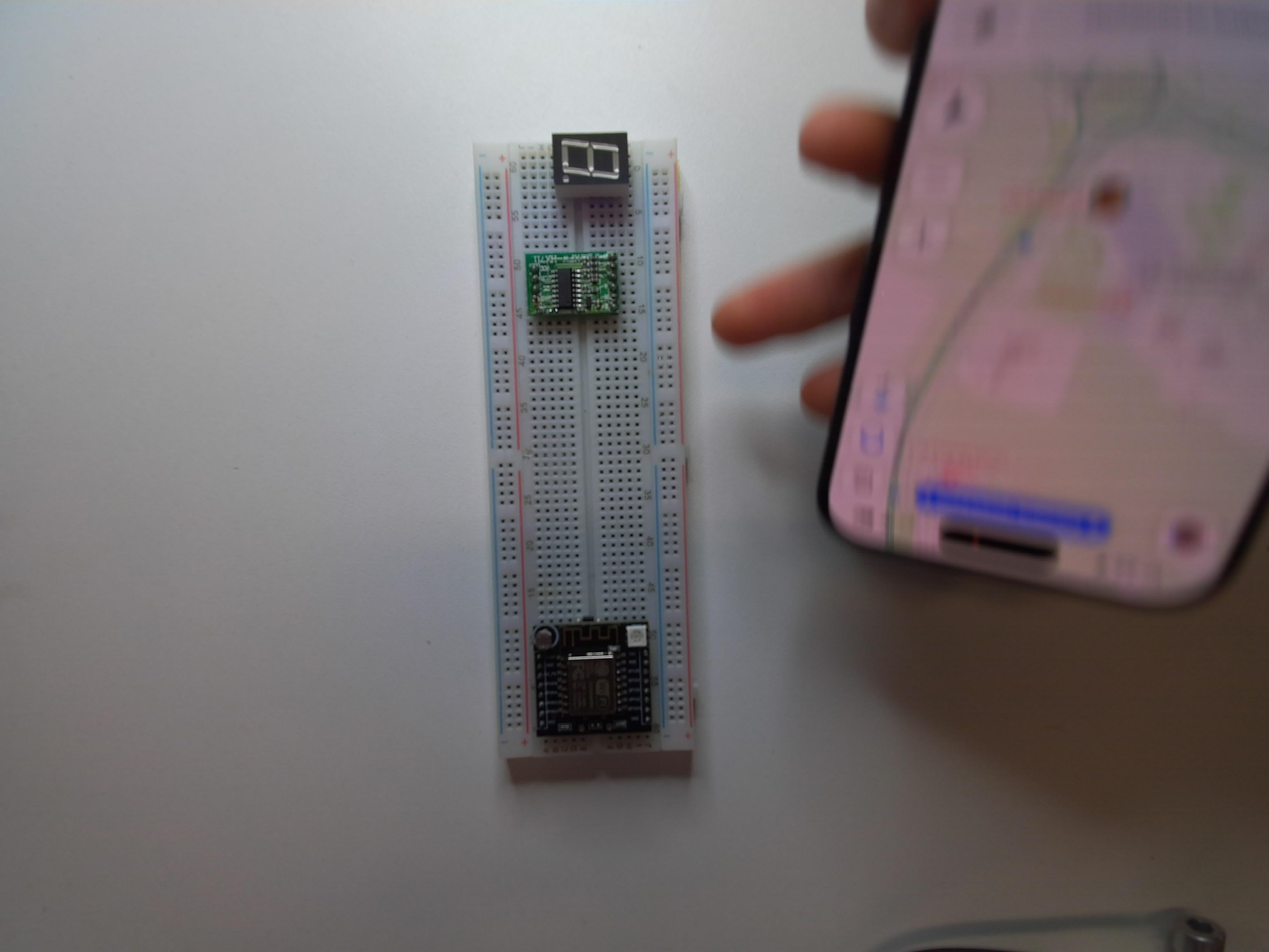base: (472, 131, 697, 773)
digit-board: (548, 132, 634, 203)
esp: (530, 622, 656, 740)
green-board: (522, 248, 620, 320)
